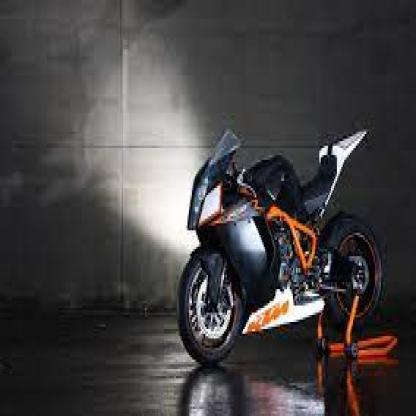bike: (174, 132, 383, 354)
